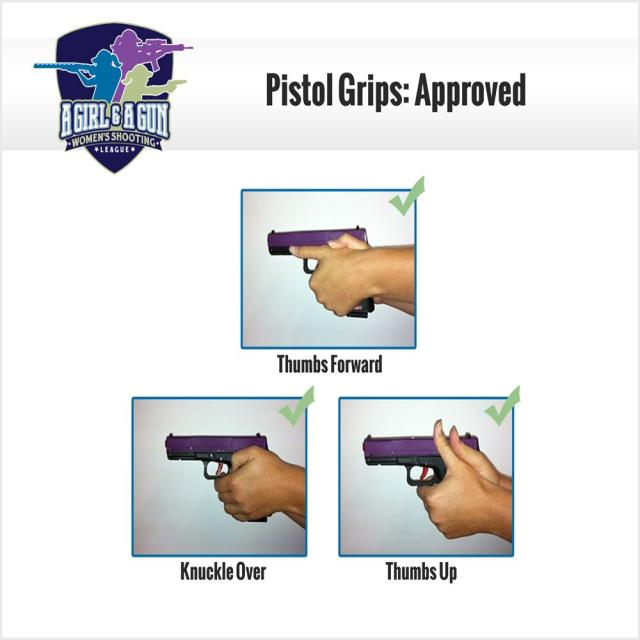HandGun: (363, 423, 479, 486), (165, 435, 268, 479), (267, 227, 369, 257), (298, 258, 319, 275)
